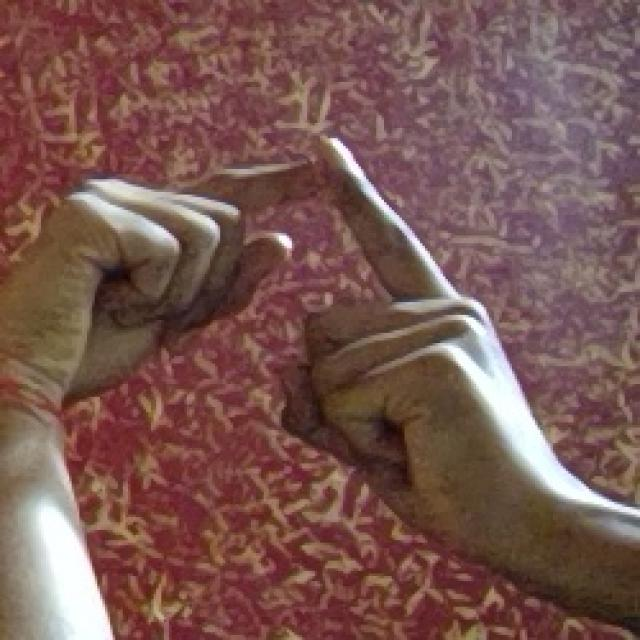Alphabet-E: (34, 128, 555, 550)
